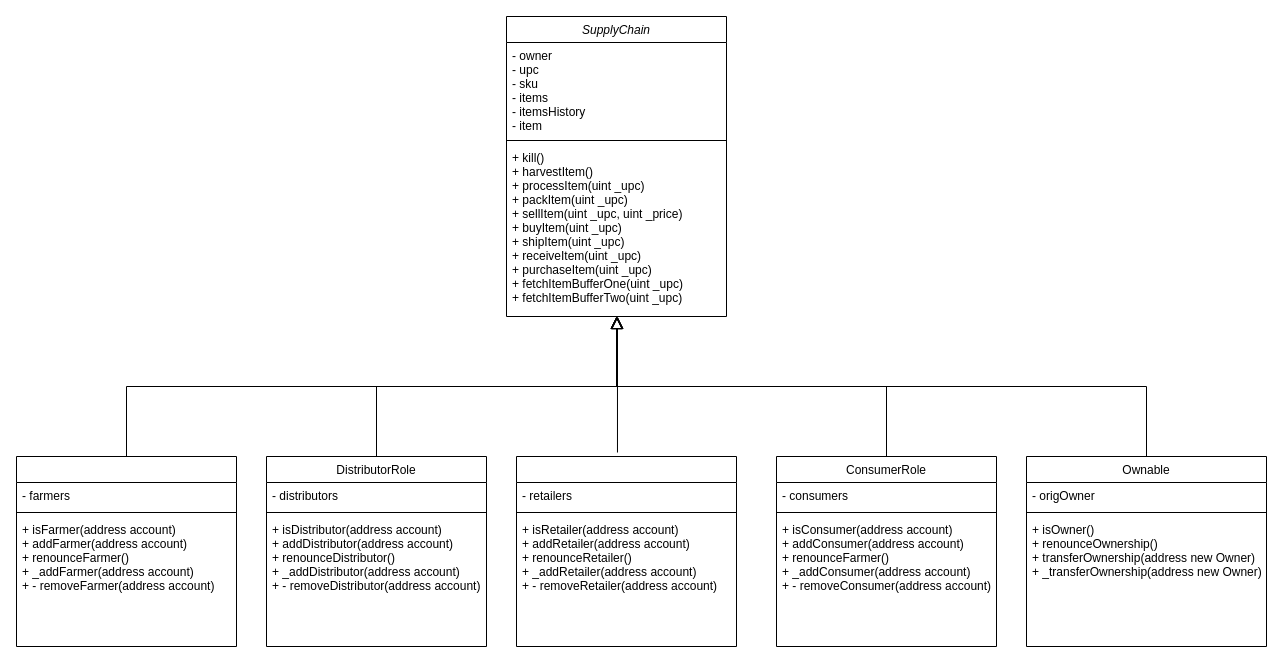
Some shapes in this 1283 by 663 pixel diagram are drawn without their labels. The box of each missing label's shape, as (x1, y1, x2, y2) in pixels:
FarmerRole: (16, 456, 236, 646)
RetailerRole: (516, 456, 736, 646)
